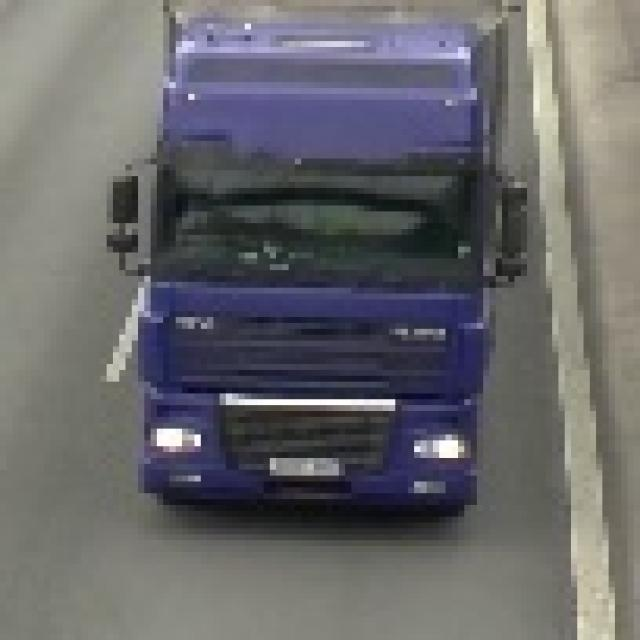TRUCK: (91, 0, 549, 528)
